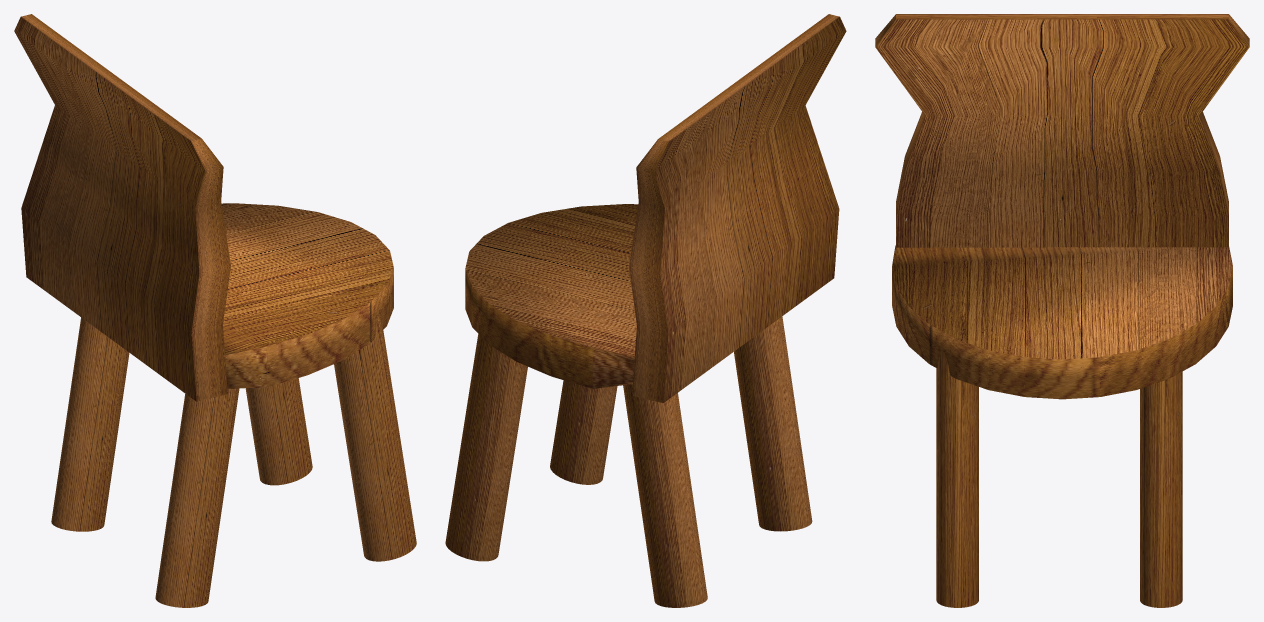
The picture shows the model from 3 angles, left to right: view 1: azimuth 30°, elevation 25°; view 2: azimuth 150°, elevation 25°; view 3: azimuth 270°, elevation 25°; orthographic projection. The views are drawn at different scales.
Visible parts, largest first — view 1: Box001, Cylinder001, Cylinder003, Cylinder002, Cylinder004, Cylinder005; view 2: Box001, Cylinder001, Cylinder005, Cylinder004, Cylinder002, Cylinder003; view 3: Box001, Cylinder001, Cylinder003, Cylinder005.
Part boxes in pixels (<box>): Box001: <box>14,14,230,401</box>; Cylinder001: <box>221,203,393,388</box>; Cylinder003: <box>334,313,416,561</box>; Cylinder002: <box>155,388,239,607</box>; Cylinder004: <box>51,317,129,531</box>; Cylinder005: <box>245,378,312,485</box>; Box001: <box>629,14,846,403</box>; Cylinder001: <box>465,204,638,388</box>; Cylinder005: <box>445,334,527,561</box>; Cylinder004: <box>623,384,707,607</box>; Cylinder002: <box>734,316,812,531</box>; Cylinder003: <box>550,380,617,484</box>; Box001: <box>875,14,1249,247</box>; Cylinder001: <box>892,245,1232,399</box>; Cylinder003: <box>936,351,978,607</box>; Cylinder005: <box>1140,371,1182,607</box>.
Bounding box in the file's own units: 65.91 × 114 × 80.58.
1 material, 1 textured.
